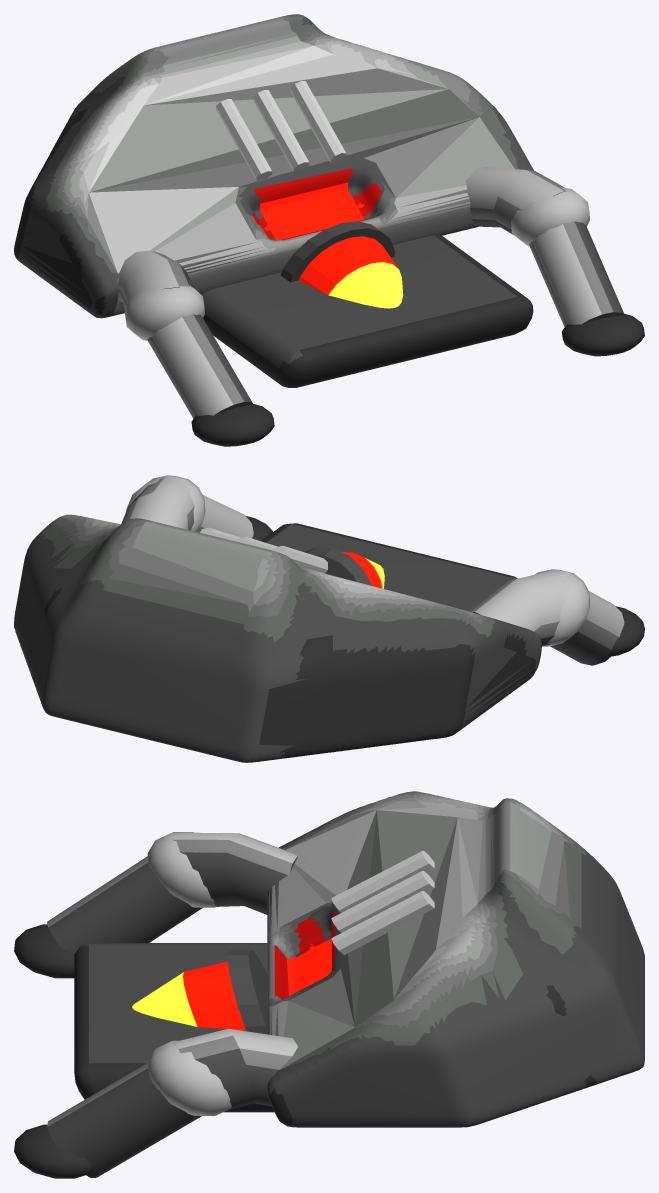
File: red_mouth_lander.glb
3 views of the same model, one above another, from view 1: azimuth 30°, elevation 25°; view 2: azimuth 150°, elevation 25°; view 3: azimuth 270°, elevation 25° (orthographic). The views are drawn at different scales.
Parts seen in each view (by area): view 1: red_mouth_lander; view 2: red_mouth_lander; view 3: red_mouth_lander.
Part boxes in pixels (<box>): red_mouth_lander: <box>14,14,644,446</box>; red_mouth_lander: <box>14,475,644,762</box>; red_mouth_lander: <box>14,791,644,1178</box>.
Bounding box in the file's own units: 24.5 × 11.24 × 26.61.
